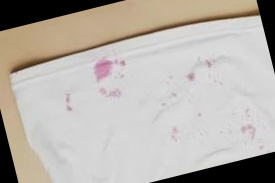wine: (86, 55, 121, 87), (237, 116, 267, 146), (61, 89, 83, 117), (190, 127, 211, 150), (166, 122, 185, 146), (97, 83, 121, 100), (192, 108, 207, 120), (201, 59, 216, 71), (219, 123, 233, 135), (164, 77, 176, 89), (185, 72, 198, 83), (214, 81, 227, 90), (160, 98, 170, 109), (203, 72, 213, 83), (169, 91, 178, 99), (120, 59, 128, 66)
